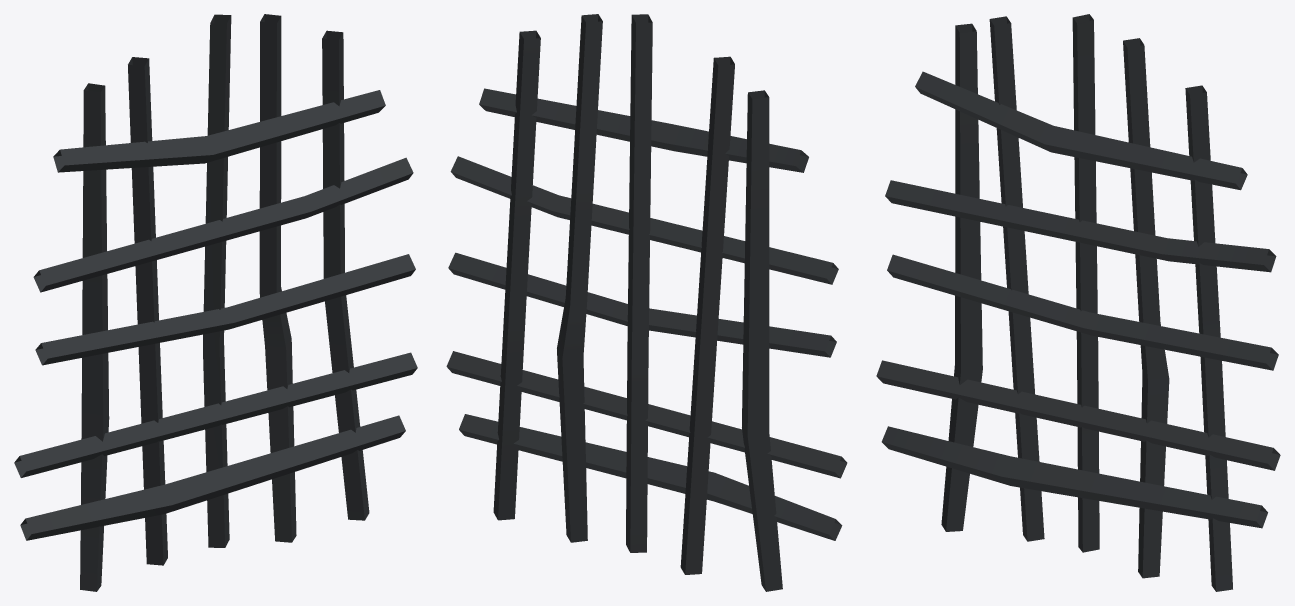
Rendered from SM_Env_Wall_Window_Bars_02.FBX.
3 renders of one model, left to right at view 1: azimuth 30°, elevation 25°; view 2: azimuth 150°, elevation 25°; view 3: azimuth 330°, elevation 25°, orthographic.
Parts seen in each view (by area): view 1: SM_Env_Wall_Window_Bars_02; view 2: SM_Env_Wall_Window_Bars_02; view 3: SM_Env_Wall_Window_Bars_02.
Part boxes in pixels (x1=…): SM_Env_Wall_Window_Bars_02: x1=14, y1=14, x2=417, y2=591; SM_Env_Wall_Window_Bars_02: x1=446, y1=14, x2=847, y2=591; SM_Env_Wall_Window_Bars_02: x1=876, y1=14, x2=1280, y2=591.
Bounding box in the file's own units: 177 × 24.3 × 233.
